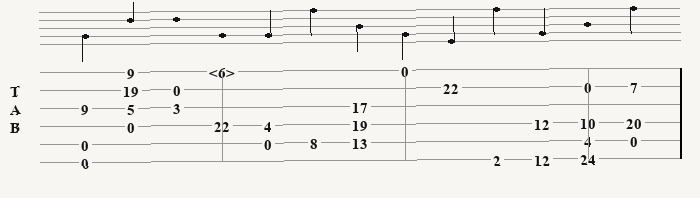0: (81, 135, 93, 149), (81, 153, 93, 167), (127, 117, 139, 131), (173, 81, 185, 95), (264, 135, 276, 149), (401, 63, 413, 77), (584, 81, 596, 95), (630, 135, 642, 149)
10: (580, 117, 600, 131)
12: (534, 117, 554, 131), (534, 153, 554, 167)
13: (352, 135, 372, 149)
17: (352, 99, 372, 113)
19: (123, 81, 143, 95), (352, 117, 372, 131)
2: (493, 153, 505, 167)
20: (626, 117, 646, 131)
22: (214, 117, 234, 131), (443, 81, 463, 95)
24: (580, 153, 600, 167)
3: (173, 99, 185, 113)
4: (264, 117, 276, 131), (584, 135, 596, 149)
5: (127, 99, 139, 113)
7: (630, 81, 642, 95)
8: (310, 135, 322, 149)
9: (81, 99, 93, 113), (127, 63, 139, 77)
harmonic: (209, 63, 239, 77)
